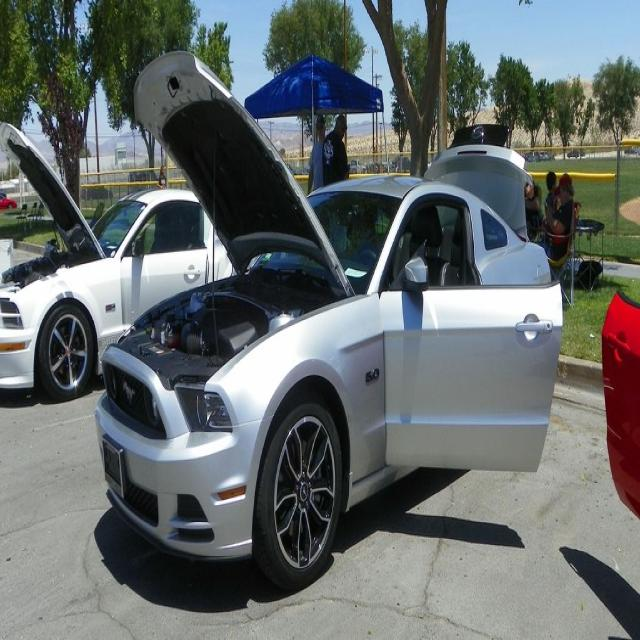car: (94, 53, 560, 586)
